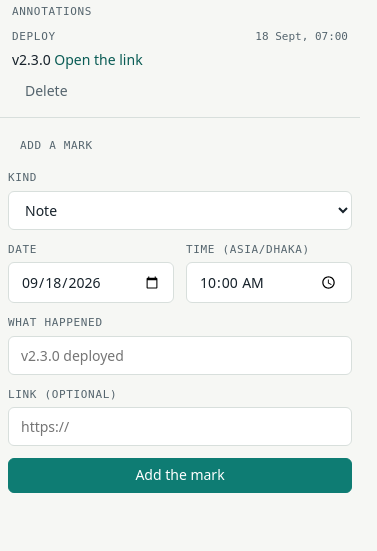
Test: the annotations panel › says when the mark is already there
Expected: the text "v2.3.0" is shown, [12, 50, 51, 69]
In the field labelled "What happened": (180, 355) [8, 336, 352, 375], type "v2.3.0"
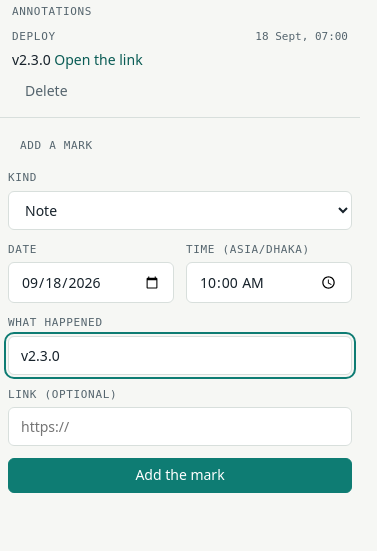
Click the button "Add the mark": (180, 476) [8, 458, 352, 493]
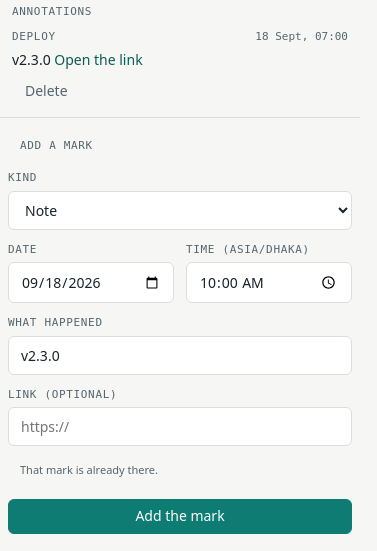
Expected: the text "That mark is already there." is shown, [20, 462, 158, 477]
